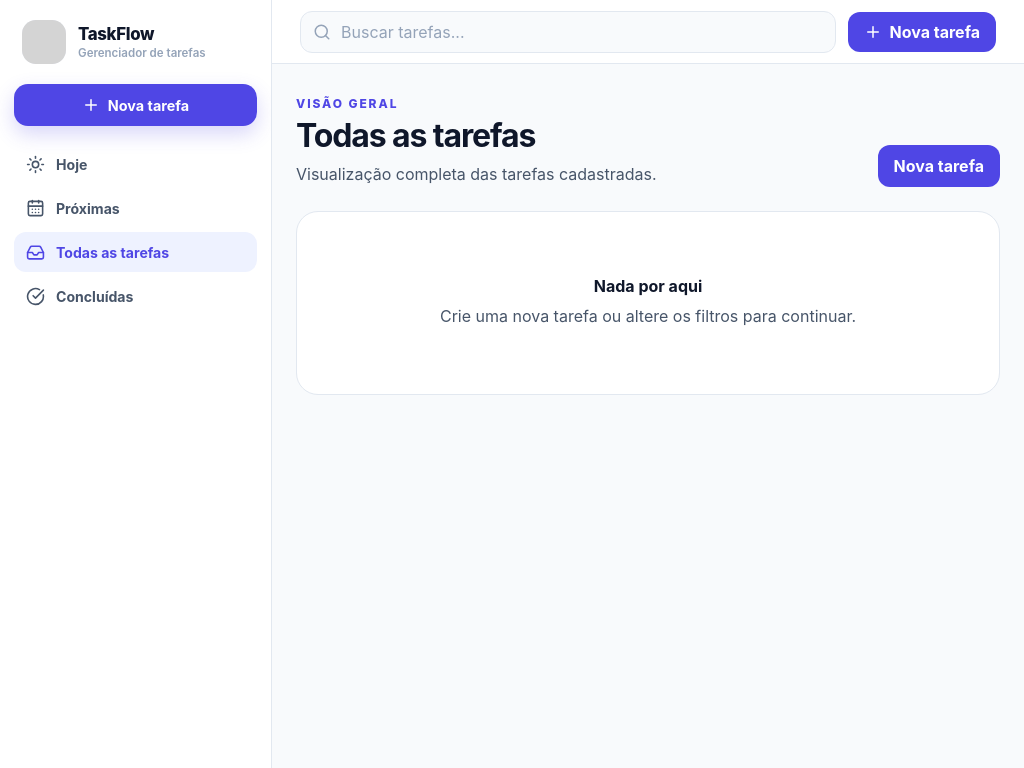
Layout integrado › cria pelo modal compartilhado e atualiza o card sem recarregar a página
The image size is (1024, 768).
Expected: the heading "Nada por aqui" is shown, [594,276,702,296]
Click the 3rd button "Nova tarefa" at x=939, y=166, box [878,145,1000,187]
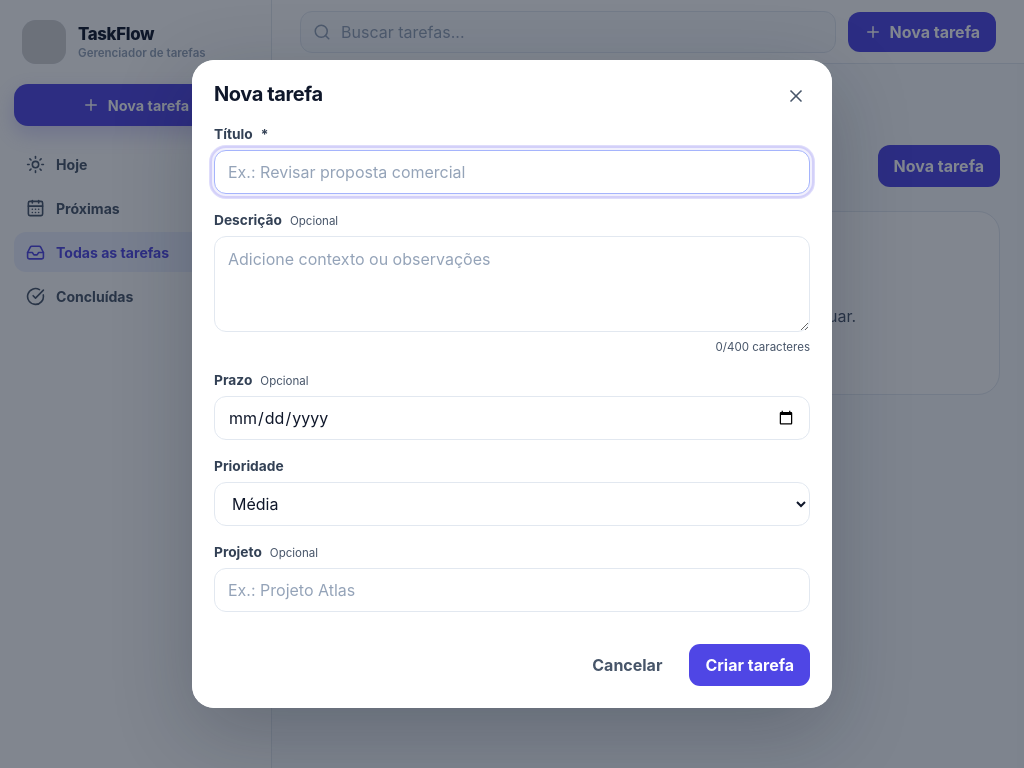
Type "Entregar interface" into the field labelled "Título *" at x=512, y=172, box [214,150,810,194]
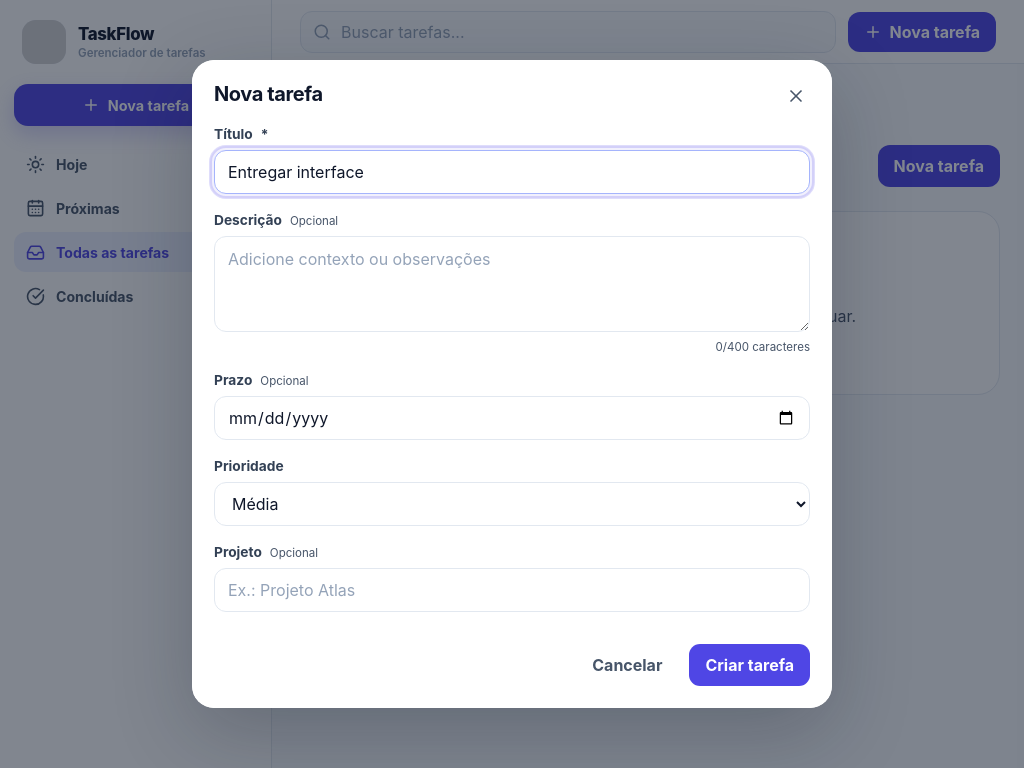
Click the button "Criar tarefa" at x=750, y=665, box [689,644,810,686]
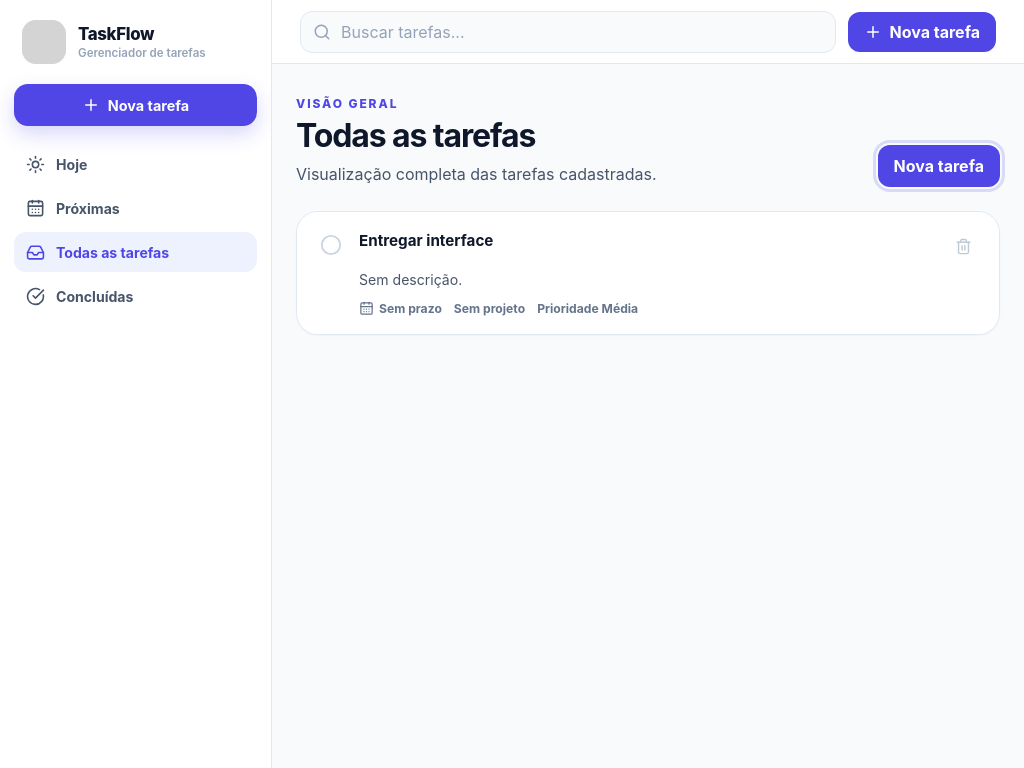
Expected: the heading "Entregar interface" is shown, [359,231,493,250]
Expected: the dialog is gone
